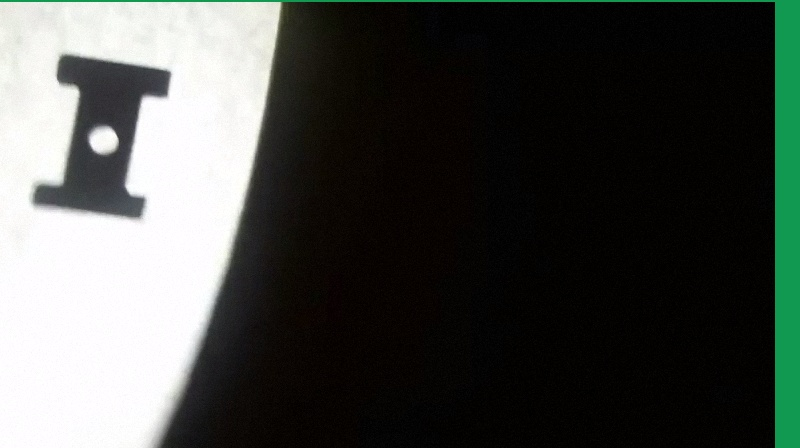O002: (27, 50, 174, 221)
